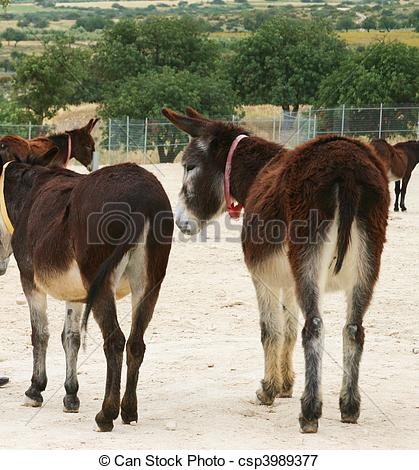donkey: (162, 101, 386, 434), (1, 158, 174, 433)
